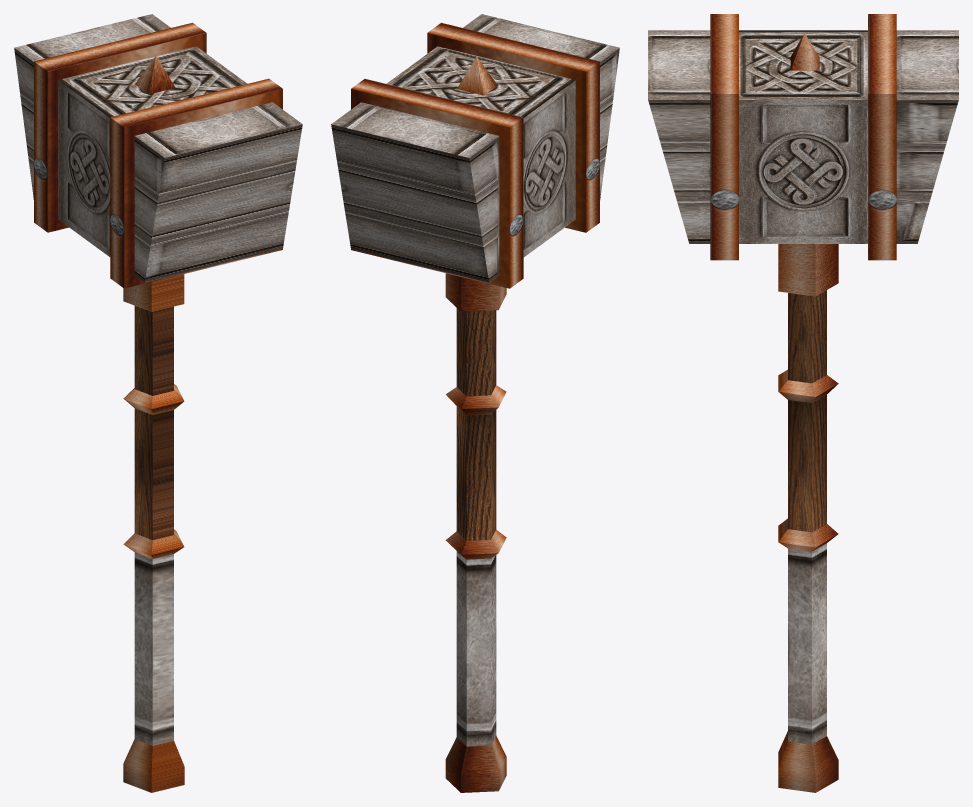
The model's file is mm9_deco_thjorad.glb.
The picture shows the model from 3 angles, left to right: view 1: azimuth 30°, elevation 25°; view 2: azimuth 150°, elevation 25°; view 3: azimuth 270°, elevation 25°; orthographic projection. The views are drawn at different scales.
Parts seen in each view (by area): view 1: Thjorad; view 2: Thjorad; view 3: Thjorad.
Part boxes in pixels (box(x1,y1,x2,y2)): Thjorad: box(14, 14, 302, 792); Thjorad: box(331, 14, 619, 792); Thjorad: box(648, 14, 958, 792).
Size of the model in its own units: 0.3205 by 1.4 by 0.5263.
Materials: 2 (2 with a texture image).
